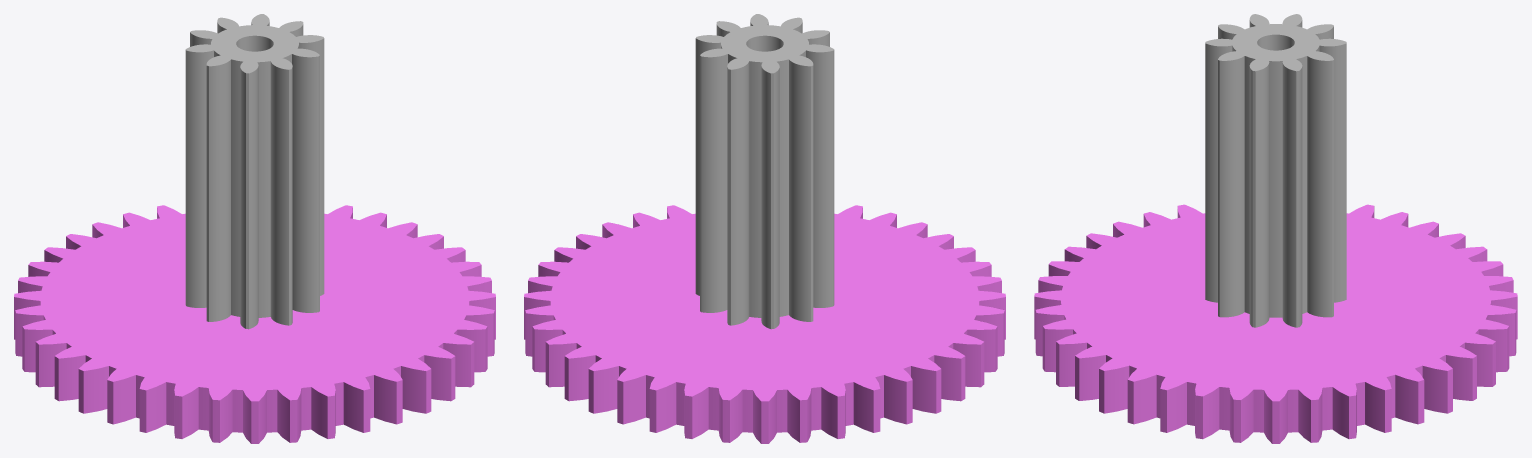
File: gear-sub3.fbx
The picture shows the model from 3 angles, left to right: view 1: azimuth 30°, elevation 25°; view 2: azimuth 150°, elevation 25°; view 3: azimuth 270°, elevation 25°; orthographic projection.
Parts seen in each view (by area): view 1: spur gear_iso-2, spur gear_iso-7; view 2: spur gear_iso-2, spur gear_iso-7; view 3: spur gear_iso-2, spur gear_iso-7.
Boxes of the visible parts, x1,y1,x2,y2 form: spur gear_iso-2: (14, 205, 495, 443); spur gear_iso-7: (185, 14, 324, 329); spur gear_iso-2: (524, 205, 1005, 443); spur gear_iso-7: (695, 14, 834, 329); spur gear_iso-2: (1034, 204, 1517, 443); spur gear_iso-7: (1205, 14, 1346, 327).
Bounding box in the file's own units: 10.24 × 7 × 10.25.
